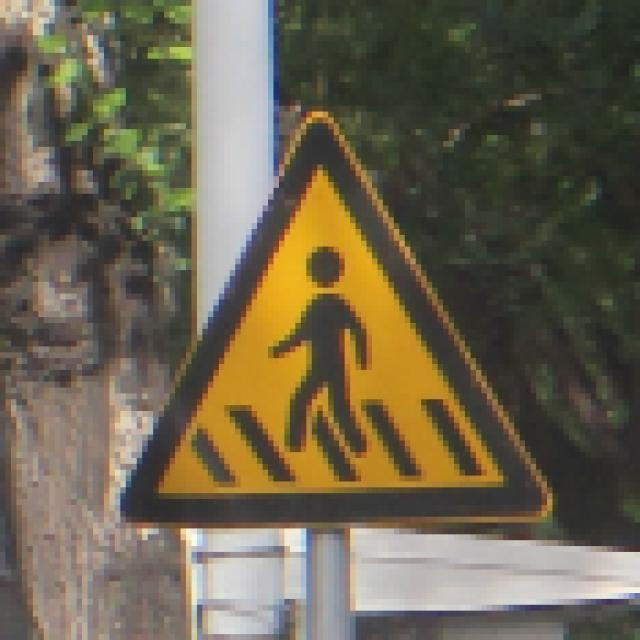Crossing: (86, 88, 570, 553)
